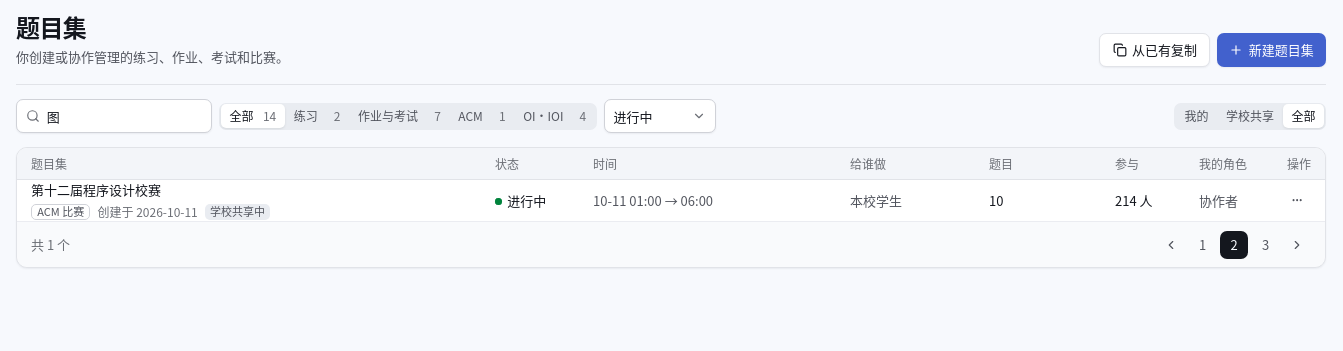
Test: teach list page › keeps status and the other query params, and drops page, on the quiz filter
This screenshot has width=1343, height=351.
Expected: the tab "全部" is shown, [1283,104,1324,128]
Expected: the search field with placeholder "搜索标题" holds "图", [47,100,202,132]
Step 1. Click the dropdown named "状态" → (660, 116), box [604,99,716,133]
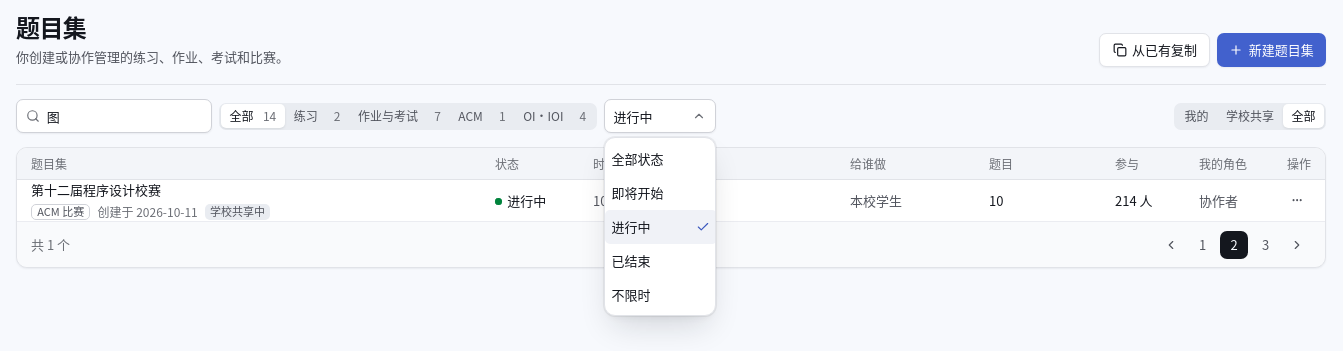
Expected: the option "全部状态" is shown, [612,149,664,168]
Expected: the option "即将开始" is shown, [612,183,664,202]
Expected: the option "进行中" is shown, [604,210,716,244]
